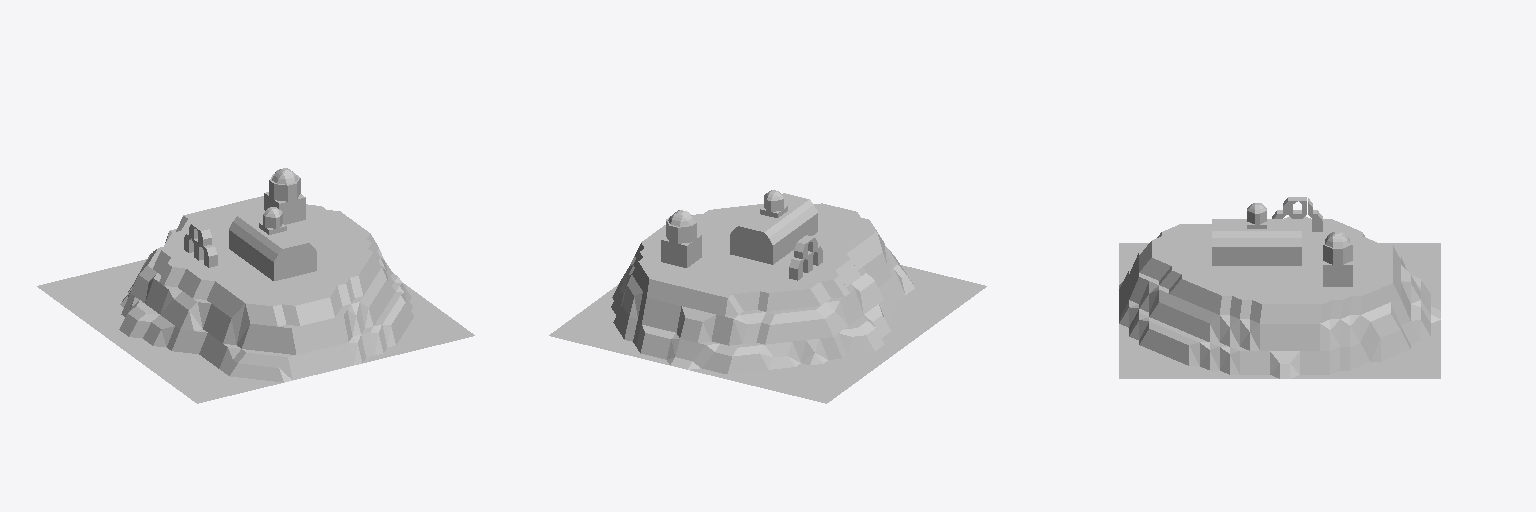
The model's file is Santorini.obj.
The picture shows the model from 3 angles: view 1: azimuth 30°, elevation 25°; view 2: azimuth 150°, elevation 25°; view 3: azimuth 270°, elevation 25°; orthographic projection.
Parts seen in each view (by area): view 1: Plane; view 2: Plane; view 3: Plane.
Boxes of the visible parts, x1=… form: Plane: x1=37, y1=168, x2=474, y2=403; Plane: x1=549, y1=190, x2=986, y2=403; Plane: x1=1119, y1=197, x2=1440, y2=378.
Size of the model in its own units: 10 by 3.77 by 10.